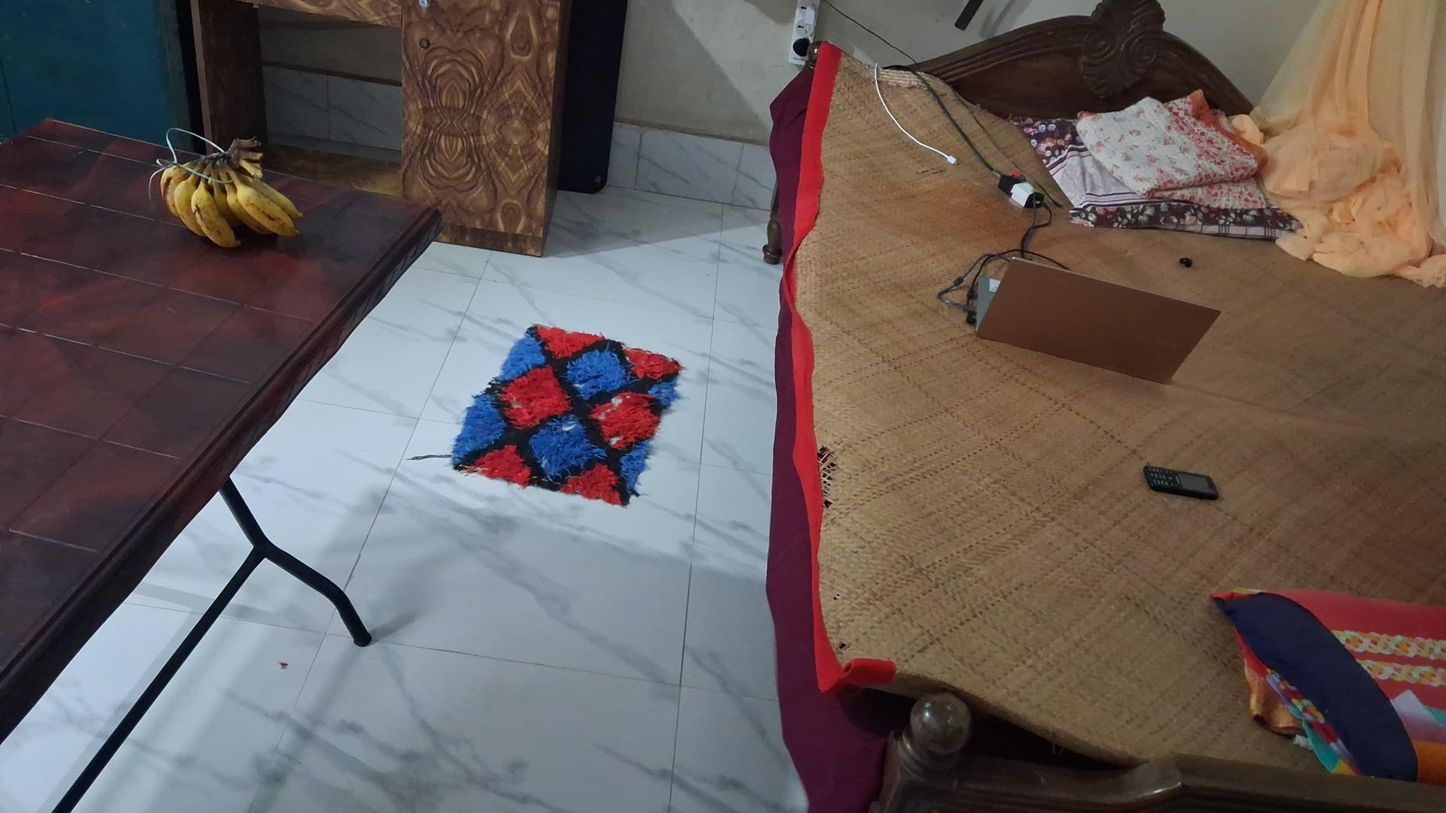Blanket: (1072, 86, 1271, 200)
Floor Mat: (450, 330, 683, 504)
Food: (153, 135, 295, 251)
Laptop: (969, 246, 1218, 384)
Phone: (1139, 458, 1227, 500)
Table: (0, 111, 442, 813)
